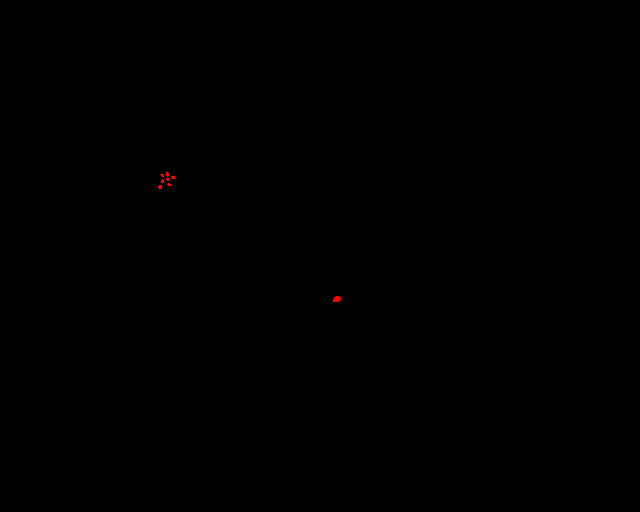Target: (333, 296, 341, 302), (158, 185, 162, 189), (166, 172, 169, 177), (160, 174, 164, 177), (171, 176, 175, 179), (161, 179, 164, 183), (167, 183, 171, 186), (166, 178, 169, 181)
